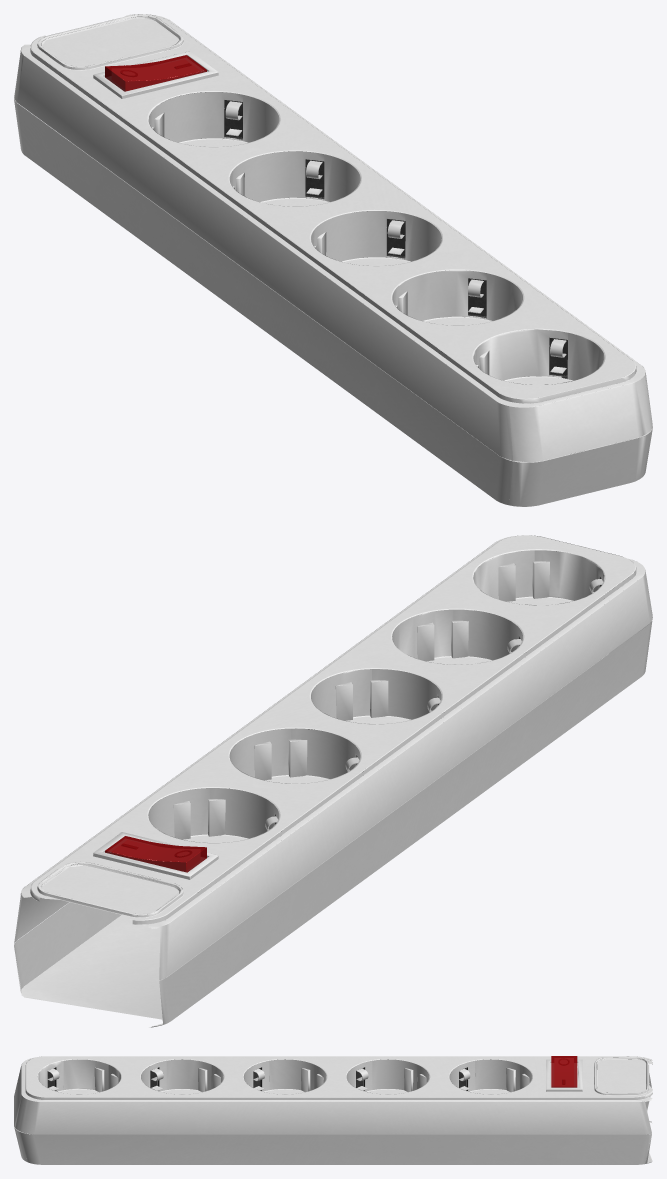
The model's file is PowerStrip.glb.
3 views of the same model, one above another, from view 1: azimuth 30°, elevation 25°; view 2: azimuth 150°, elevation 25°; view 3: azimuth 270°, elevation 25° (orthographic). The views are drawn at different scales.
Parts seen in each view (by area): view 1: Circle.002, Circle; view 2: Circle.002, Circle; view 3: Circle.002, Circle.
Boxes of the visible parts, bbox=[...] form: Circle.002: bbox=[14, 14, 652, 506]; Circle: bbox=[105, 55, 206, 91]; Circle.002: bbox=[14, 535, 652, 1027]; Circle: bbox=[105, 836, 206, 872]; Circle.002: bbox=[14, 1056, 652, 1164]; Circle: bbox=[551, 1056, 577, 1087].
Size of the model in its own units: 0.5475 by 0.4084 by 3.2.
Materials: 5 (2 with a texture image).
